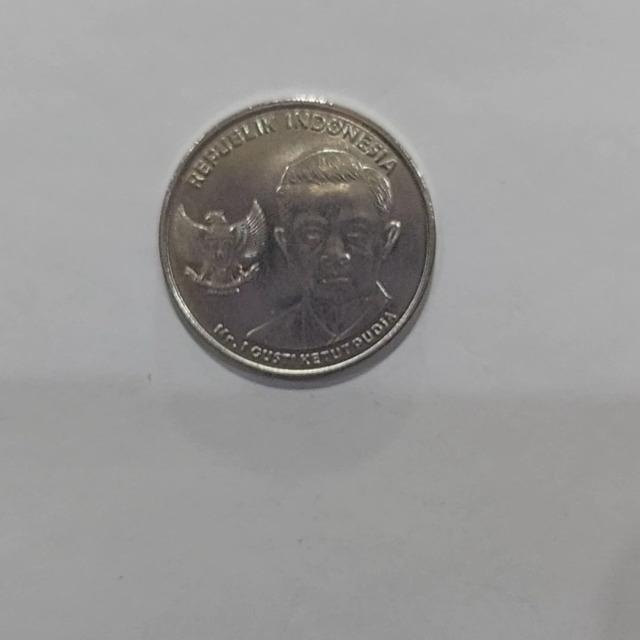Rp100: (157, 96, 437, 382)
